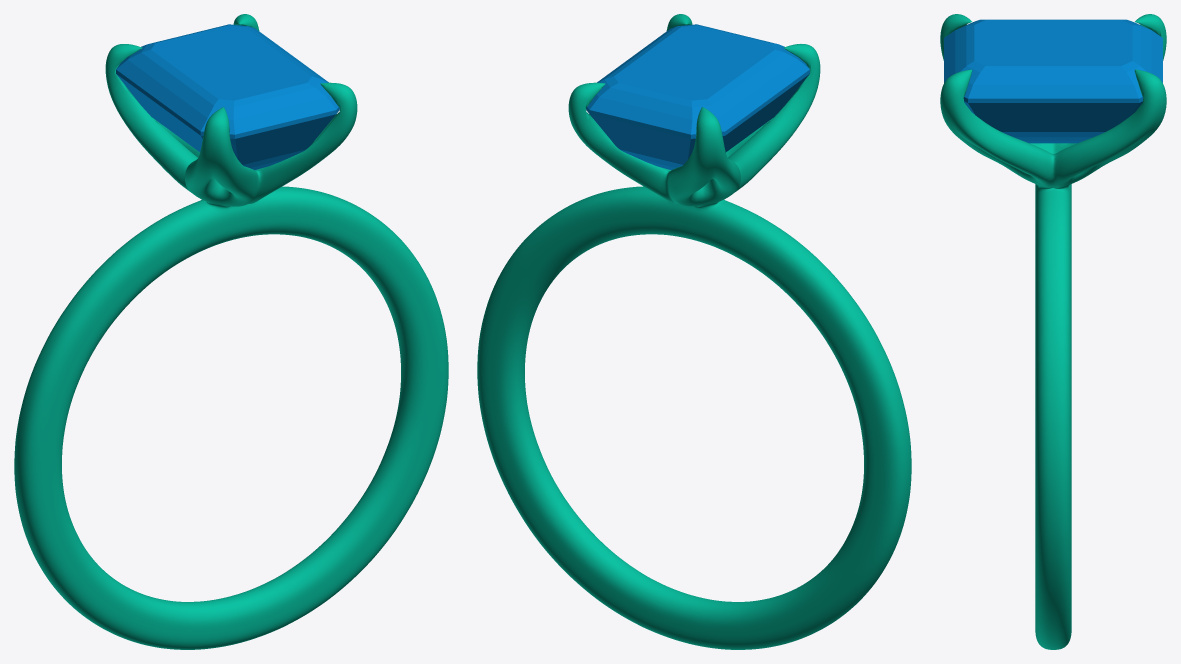
Rendered from BE1901_EM_200ct_RENDER.glb.
3 renders of one model, left to right at view 1: azimuth 30°, elevation 25°; view 2: azimuth 150°, elevation 25°; view 3: azimuth 270°, elevation 25°, orthographic.
Parts seen in each view (by area): view 1: Metal 01, CS_Diamond_Emerald; view 2: Metal 01, CS_Diamond_Emerald; view 3: Metal 01, CS_Diamond_Emerald.
Boxes of the visible parts, box(x1,y1,x2,y2) form: Metal 01: box(14, 14, 448, 649); CS_Diamond_Emerald: box(116, 24, 339, 170); Metal 01: box(477, 14, 911, 649); CS_Diamond_Emerald: box(586, 24, 809, 170); Metal 01: box(940, 14, 1166, 649); CS_Diamond_Emerald: box(944, 19, 1162, 143).
Size of the model in its own units: 20.49 by 26.49 by 9.31.
